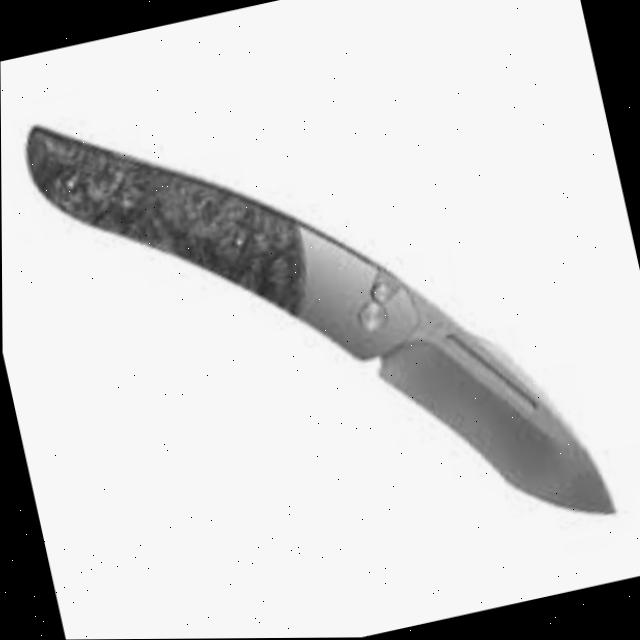Knife: (18, 17, 618, 621)
